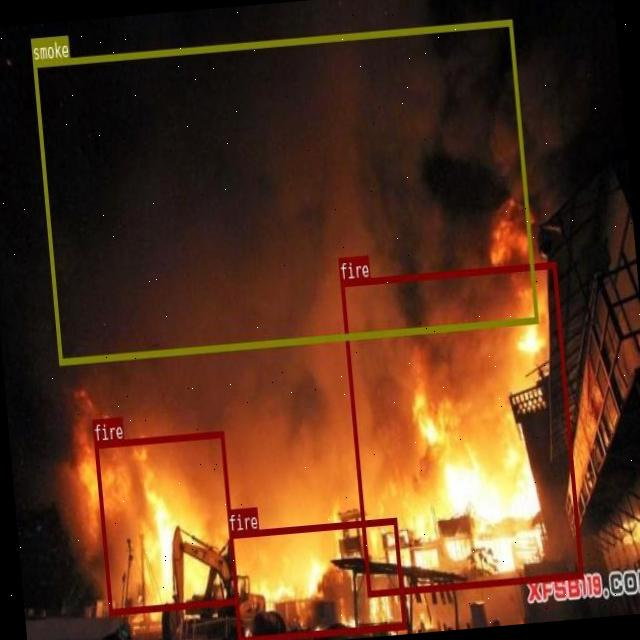fire: (338, 261, 582, 596), (94, 430, 238, 614), (228, 517, 405, 640)
smoke: (32, 18, 537, 364)
